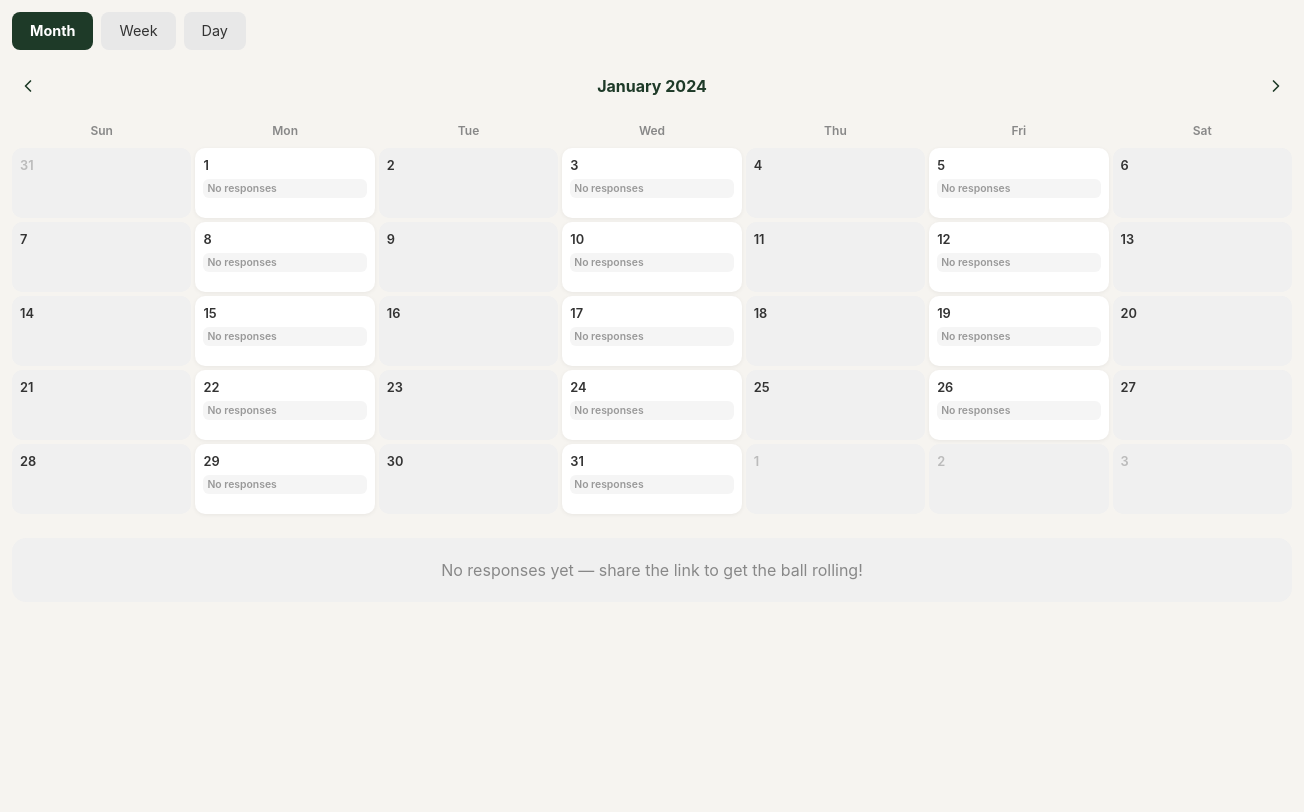
Test case: CalendarView › shows "Not an event day." in day view for non-event days
This screenshot has width=1304, height=812.
Click the button "Day" at (215, 31), box [184,12,246,50]
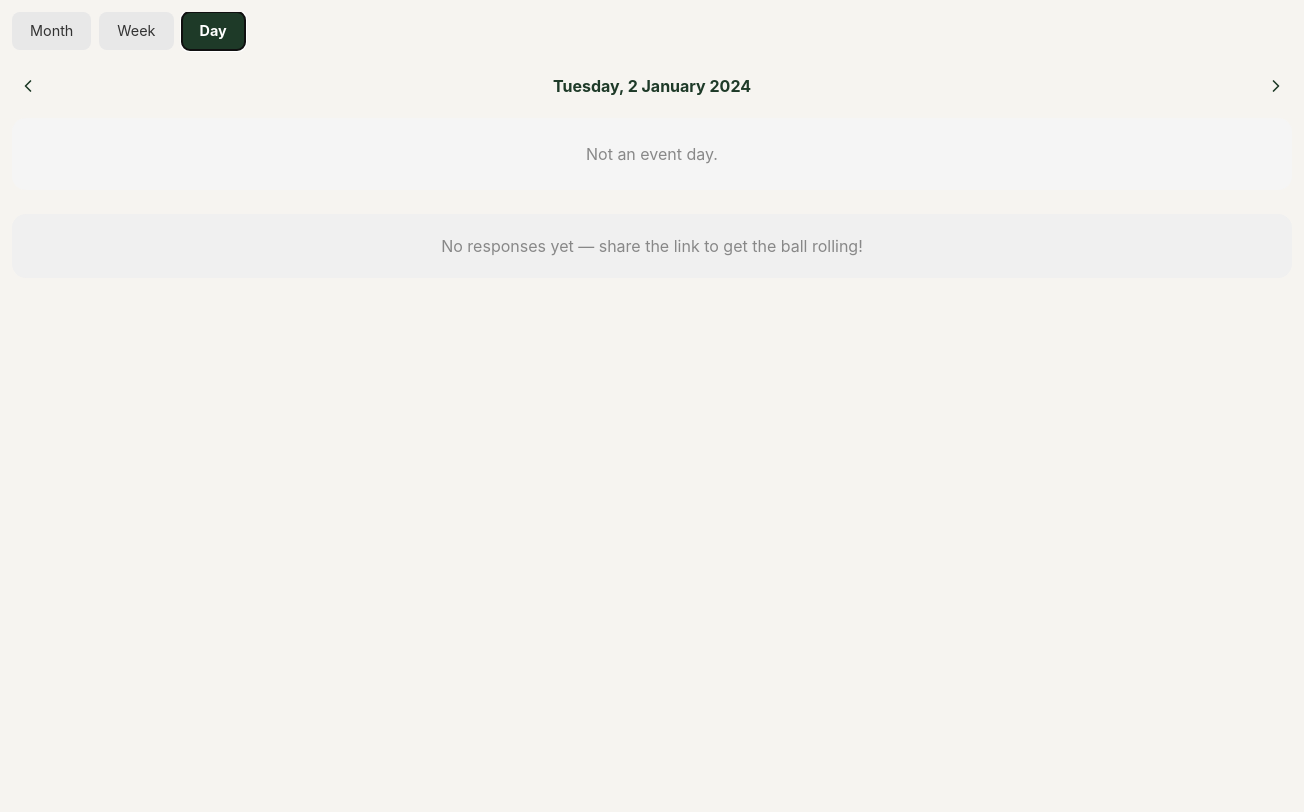
Expected: the text "Not an event day." is shown, [12,118,1292,190]
